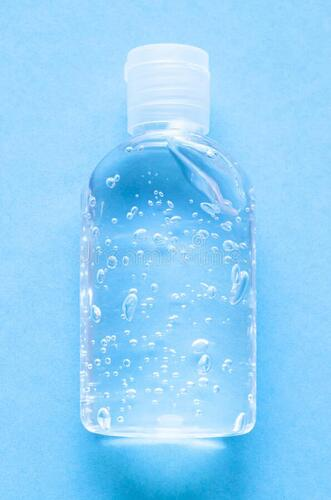sanitizer: (76, 34, 259, 437)
